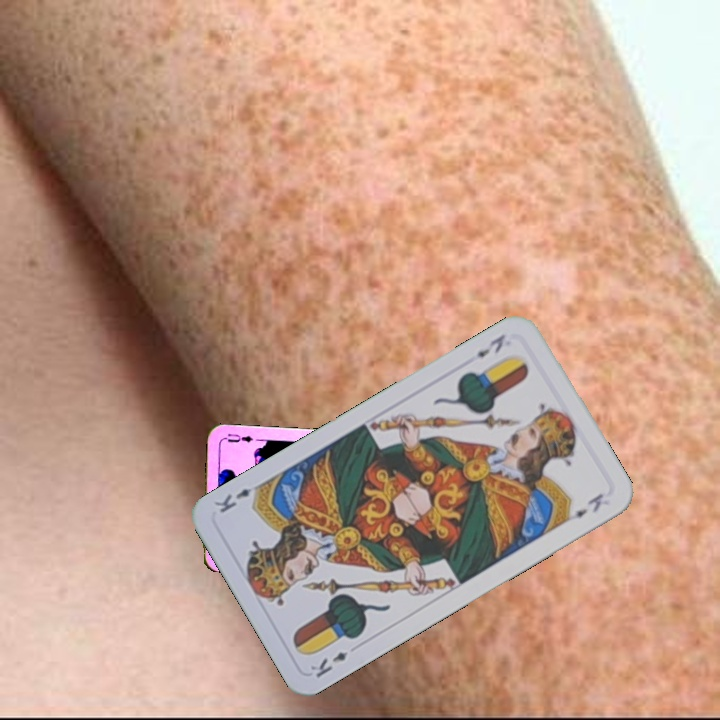EK: (306, 647, 350, 681), (472, 329, 508, 360)
